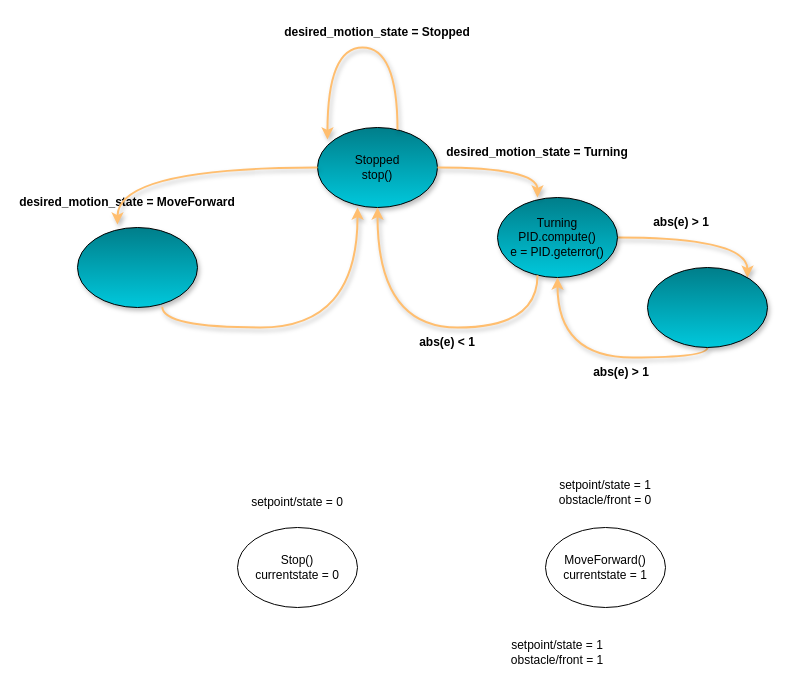
Image size: 791x684. Some labels were removed from this diagram. Each missing label, with the centre of its shape:
"MoveFoward goforward()" goes at point (138, 268).
"Turn turn()" goes at point (708, 308).
